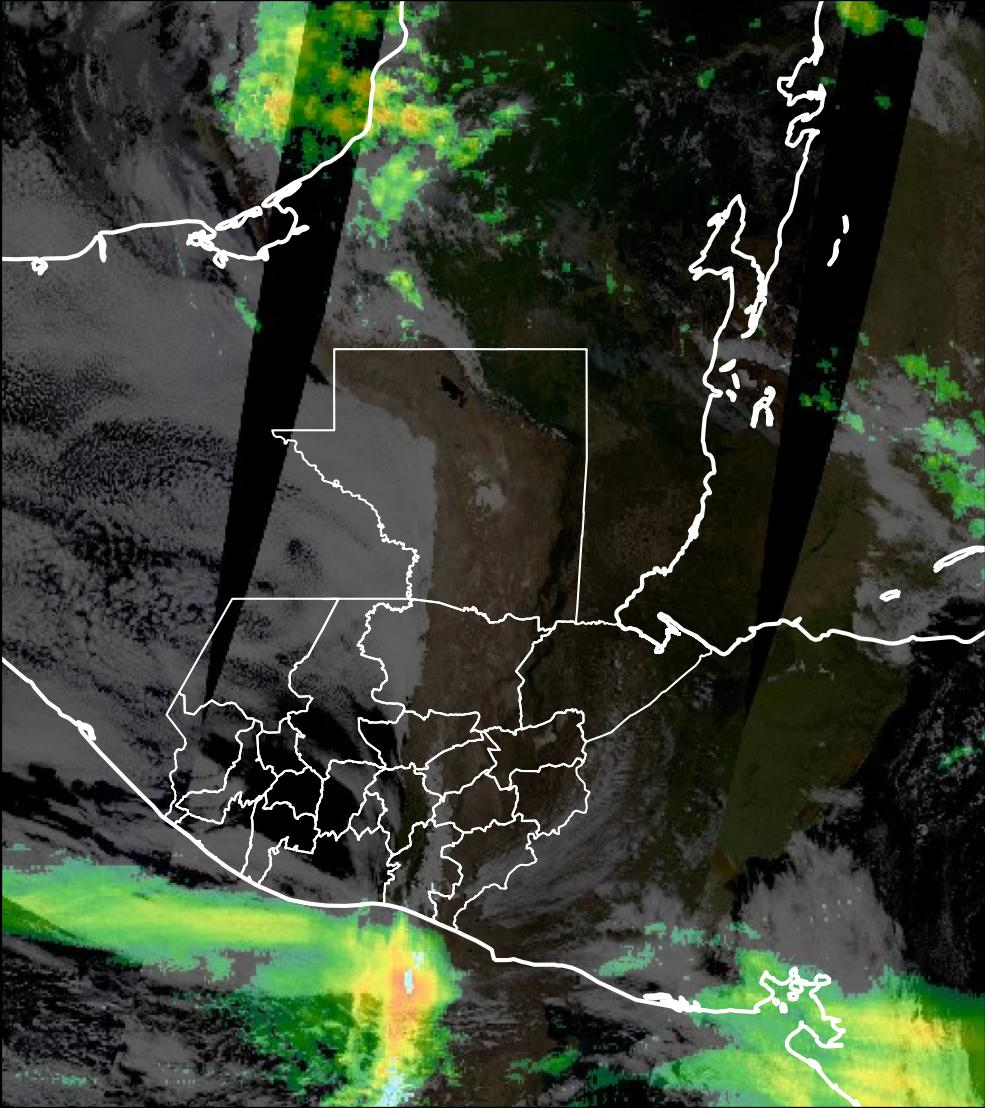precipitacion: (324, 74, 442, 160)
